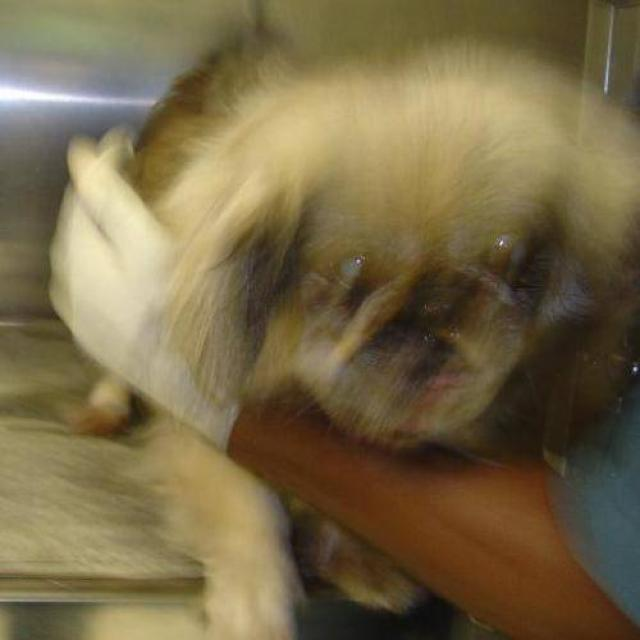dog: (46, 22, 639, 639)
